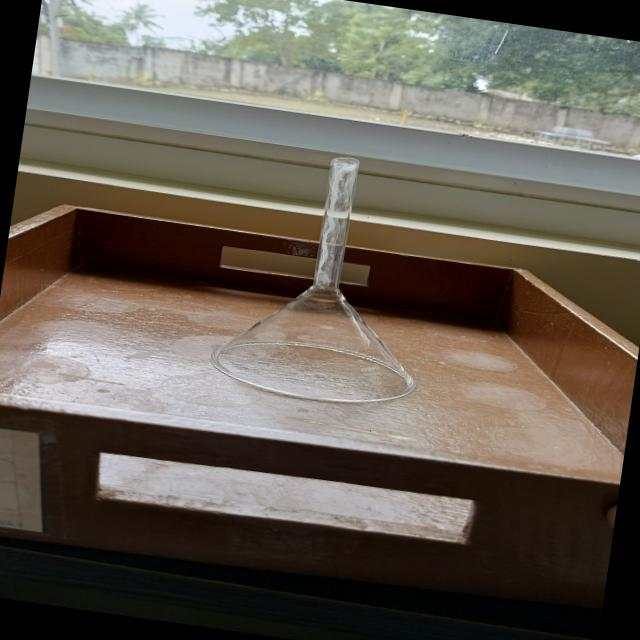funnel: (178, 136, 460, 418)
